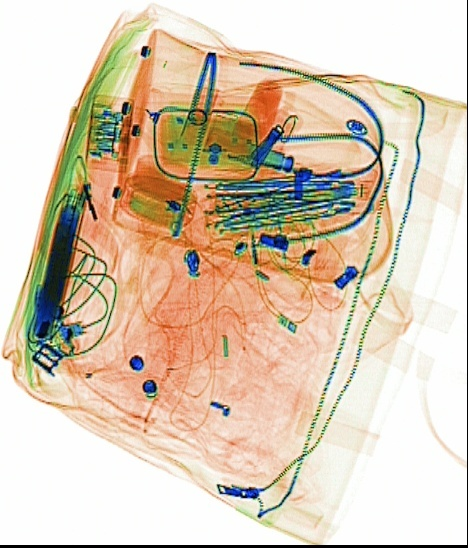powerbank: (26, 188, 89, 339)
